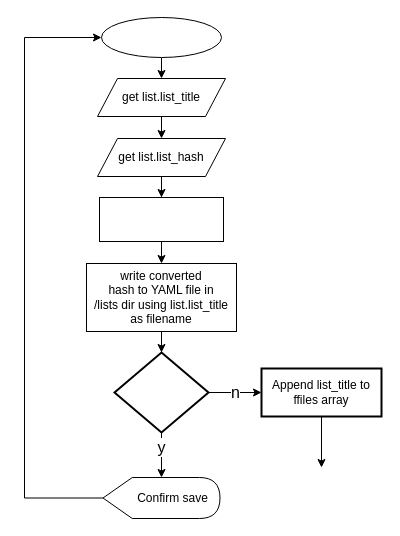
Image size: 400x536. Some labels were removed from this diagram. Here are the shapes that lost their labels. From the top down, the centre of each, then its label:
the point at 161,37: Edit Menu
the point at 161,219: convert list.list_hash to YAML format
the point at 161,392: Is list_title in files array ?
